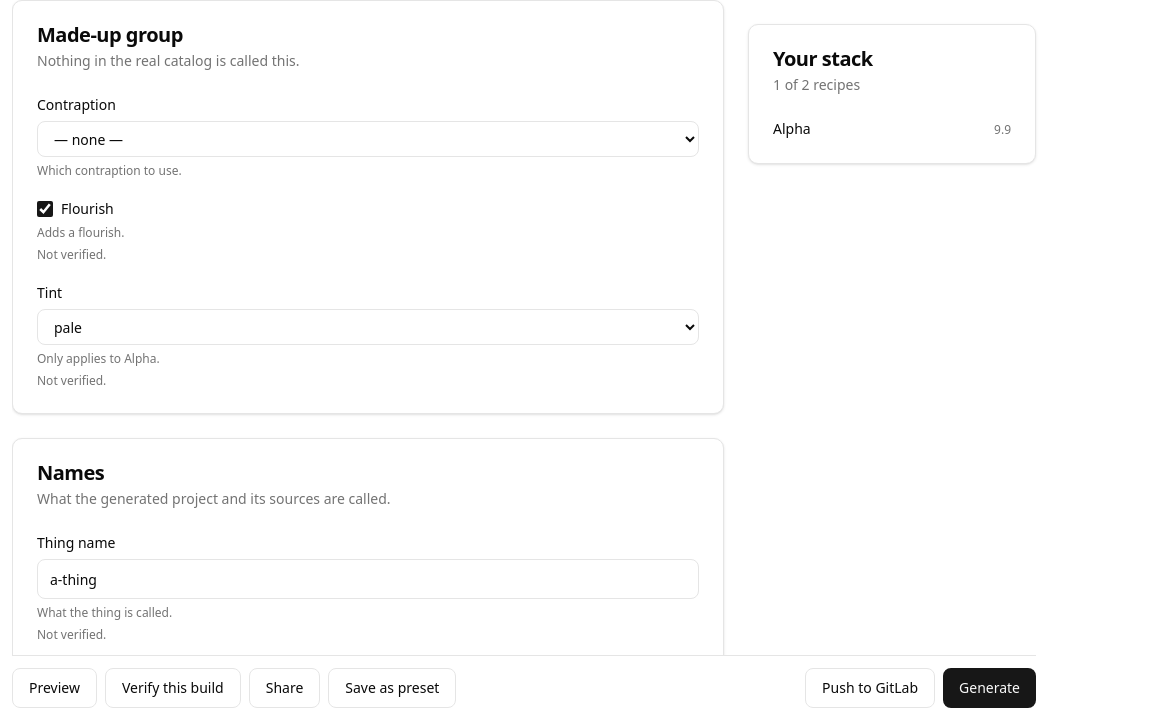
Test case: Wizard › puts a rejected request on the control it names, not in the bottom bar
The image size is (1164, 720).
Expected: the text "Alpha" is shown, [773,119,811,139]
Click the button "Generate" at (990, 688), box [943,668,1036,708]
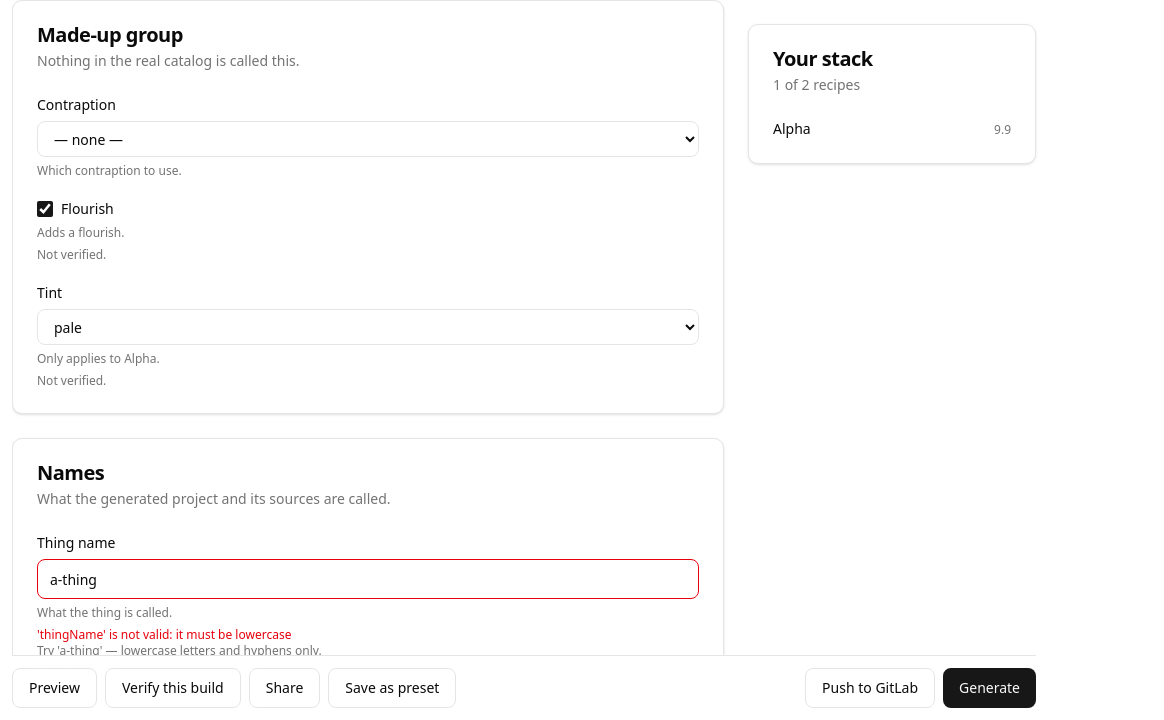
Expected: the text with test id "problem-hint" shows "Try 'a-thing'", [37,642,322,659]
Expected: the number of messages with test id "problem-detail" is 1, [37,626,322,675]
